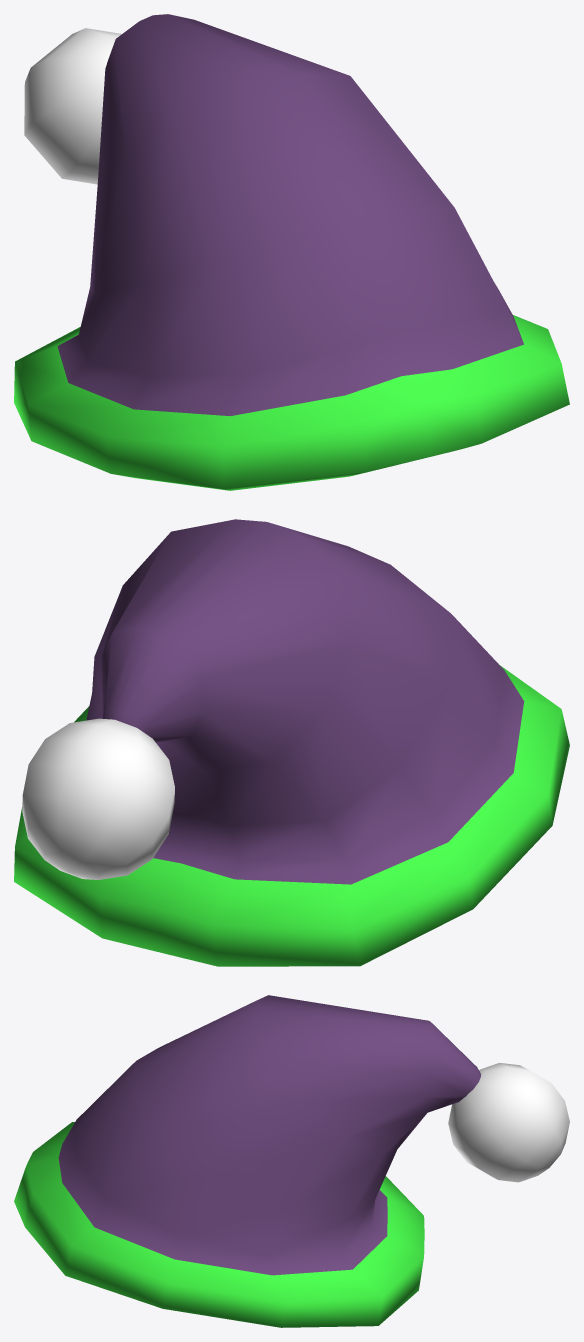
File: Santa Hat.fbx
3 renders of one model, top to bottom at view 1: azimuth 30°, elevation 25°; view 2: azimuth 150°, elevation 25°; view 3: azimuth 270°, elevation 25°, orthographic. The views are drawn at different scales.
Parts seen in each view (by area): view 1: Hat, Pompom; view 2: Hat, Pompom; view 3: Hat, Pompom.
Boxes of the visible parts, x1,y1,x2,y2 form: Hat: [14, 14, 569, 490]; Pompom: [24, 28, 121, 184]; Hat: [14, 519, 569, 966]; Pompom: [22, 718, 174, 879]; Hat: [14, 995, 480, 1327]; Pompom: [448, 1063, 569, 1182].
Bounding box in the file's own units: 51.28 × 39.5 × 74.85.
